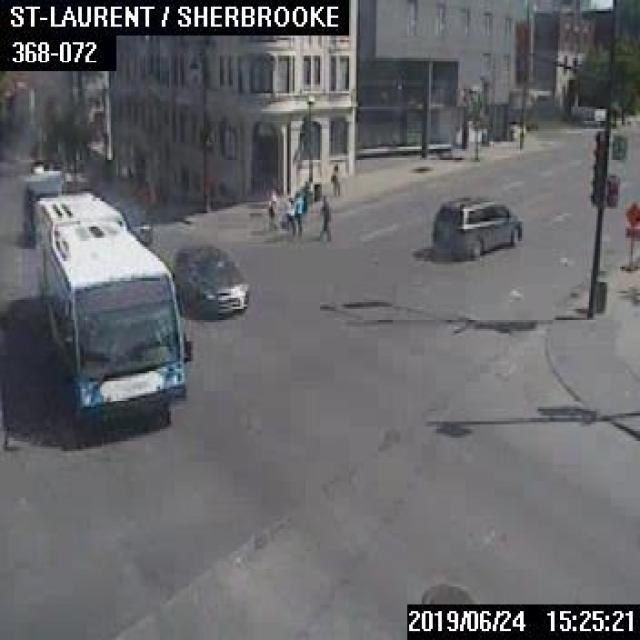bus: (33, 188, 191, 426)
construction: (620, 200, 638, 270)
pedestrian: (316, 193, 332, 239), (279, 195, 295, 234), (293, 188, 305, 234), (265, 186, 277, 230), (328, 160, 340, 193)
vehicle: (429, 192, 522, 258), (172, 244, 246, 316), (19, 161, 67, 246), (92, 184, 148, 246)
